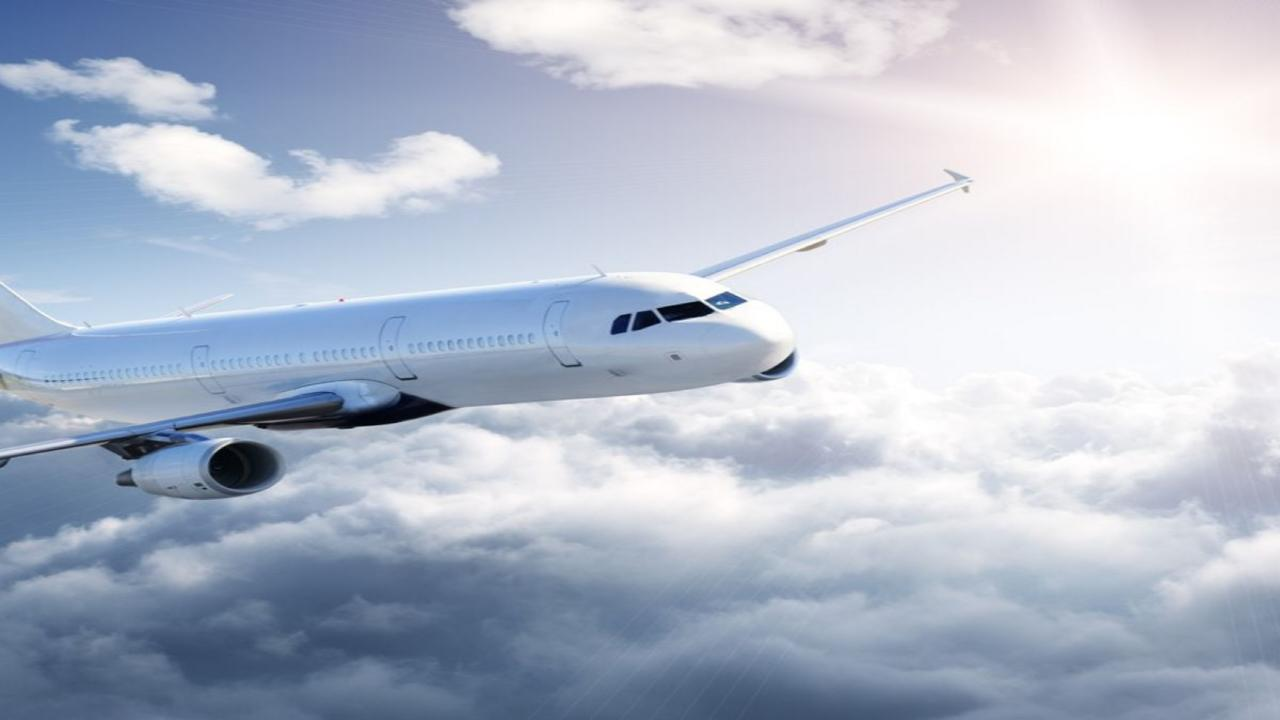Airplane: (0, 152, 1006, 514)
